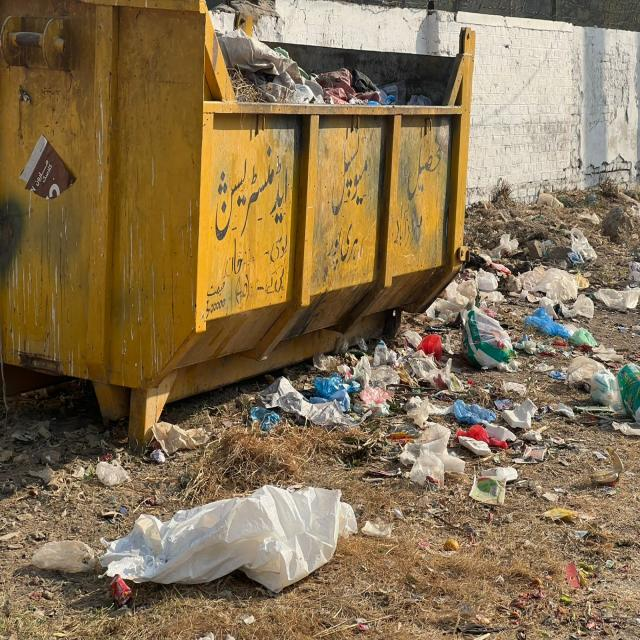garbage: (250, 259, 640, 538), (224, 23, 426, 120)
